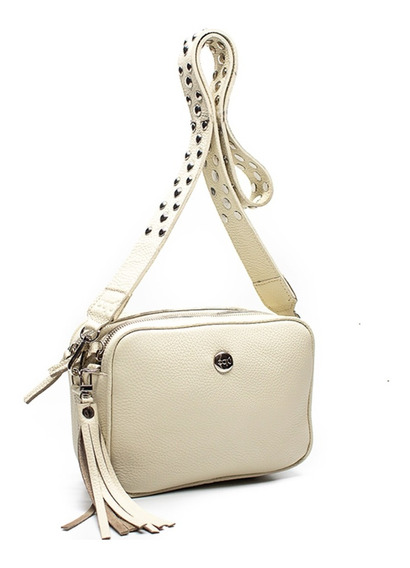cartera: (64, 26, 316, 500)
